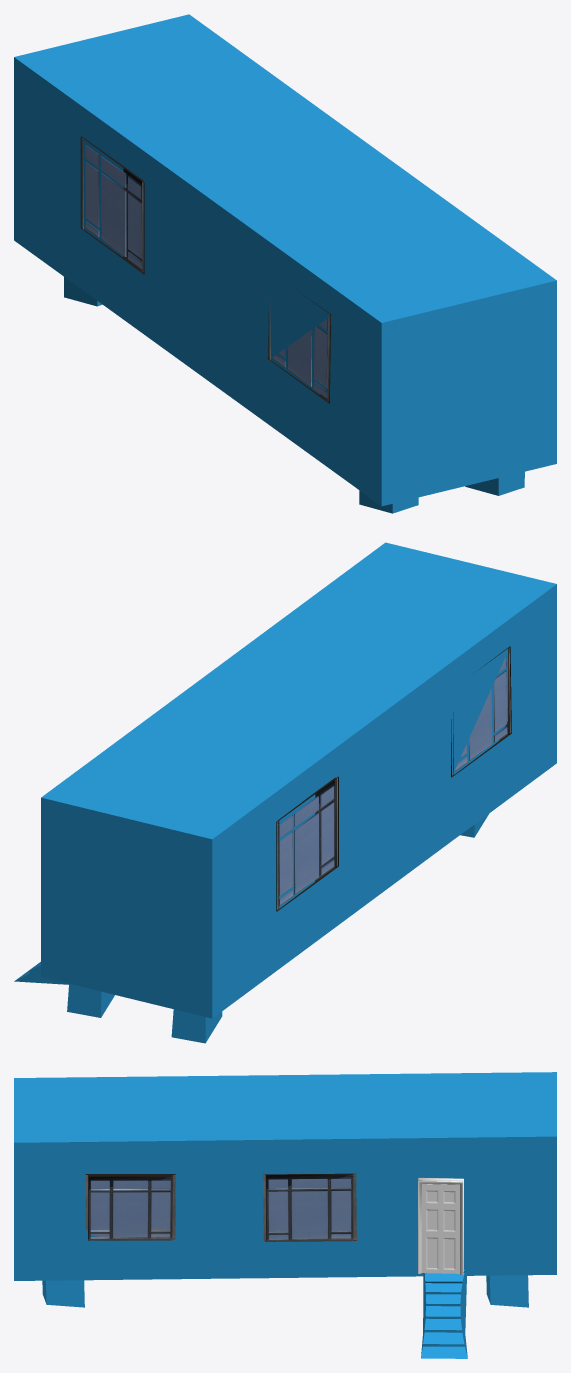
Rendered from Smart_Cafe.glb.
The picture shows the model from 3 angles, top to bottom: view 1: azimuth 30°, elevation 25°; view 2: azimuth 150°, elevation 25°; view 3: azimuth 270°, elevation 25°; orthographic projection. The views are drawn at different scales.
Visible parts, largest first — view 1: Cube, window_3.003, window_3.002; view 2: Cube, window_3.003, window_3.002; view 3: Cube, window_3, window_3.001, Door.000, DoorFrame.000.
Part boxes in pixels (x1,y1,x2,y2): Cube: [14, 14, 556, 513]; window_3.003: [80, 136, 144, 274]; window_3.002: [267, 289, 331, 403]; Cube: [14, 542, 556, 1043]; window_3.003: [276, 776, 338, 911]; window_3.002: [451, 646, 511, 777]; Cube: [14, 1072, 556, 1358]; window_3: [263, 1173, 356, 1241]; window_3.001: [85, 1174, 175, 1240]; Door.000: [421, 1184, 459, 1273]; DoorFrame.000: [418, 1177, 463, 1274].
Size of the model in its own units: 2.99 by 2.75 by 7.12.
Materials: 10 (8 with a texture image).
